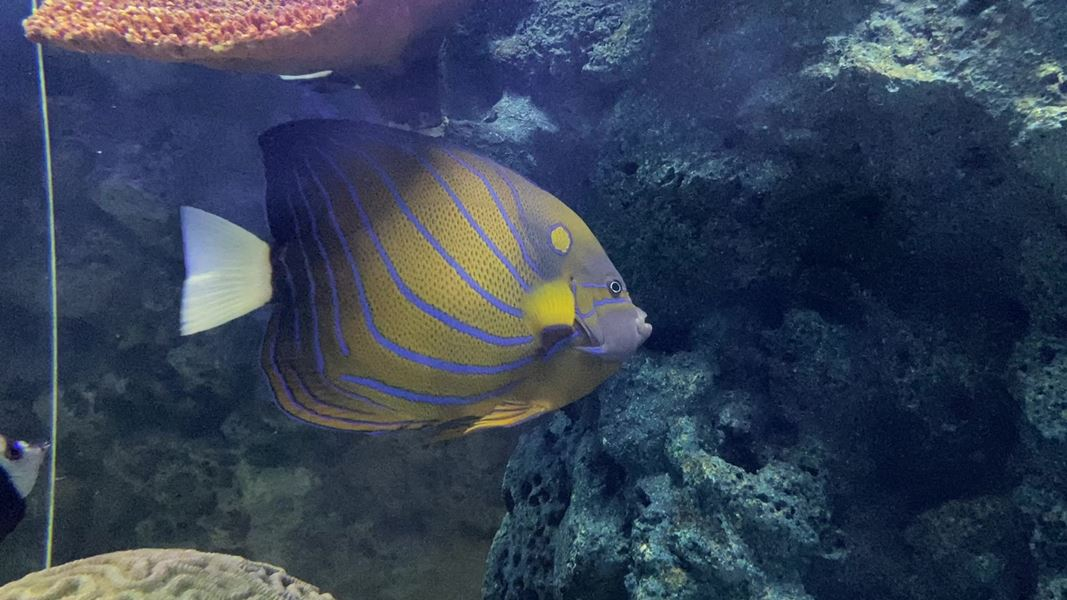Blue ring angelfish: (143, 114, 669, 450)
